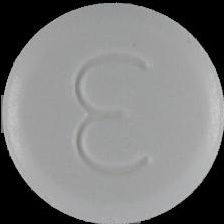76237-103: (0, 0, 224, 224)
